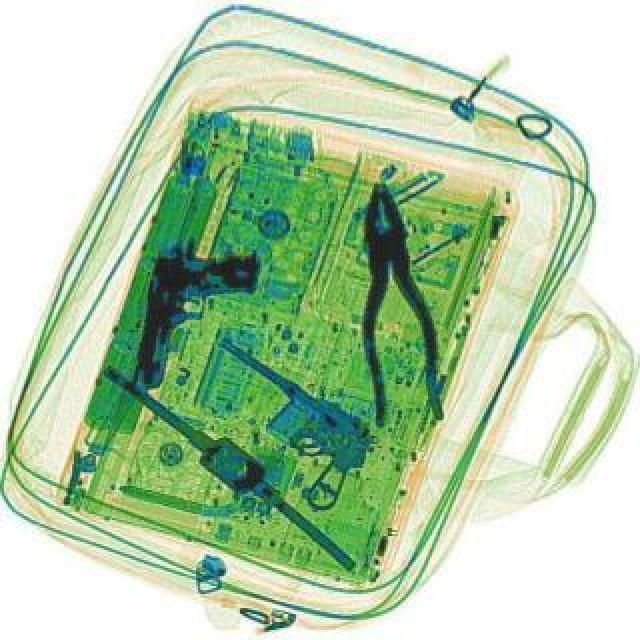gun: (170, 326, 388, 514), (126, 232, 262, 404)
wrench: (340, 176, 446, 426)
